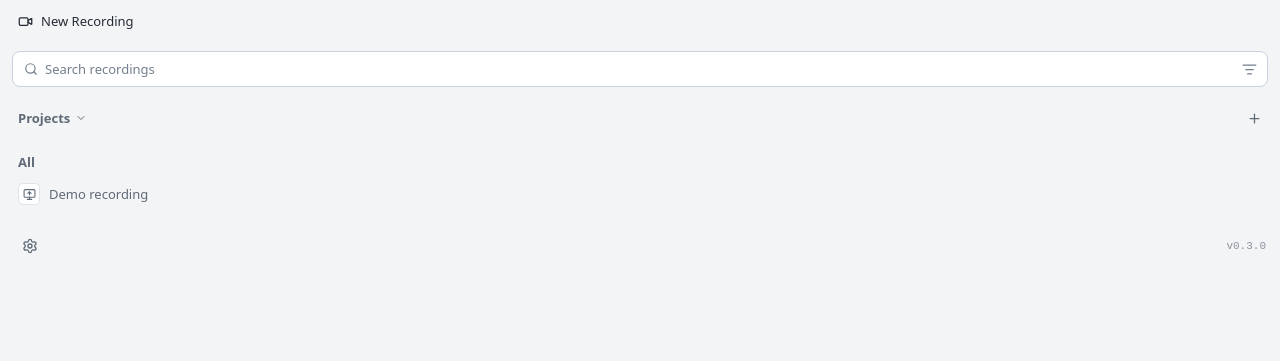
Test: HistorySidebar context menus › closes the menu on Escape and returns focus to the row
Right-click the element showing "Demo recording".
right_click(640, 194)  # box [8,176,1272,212]
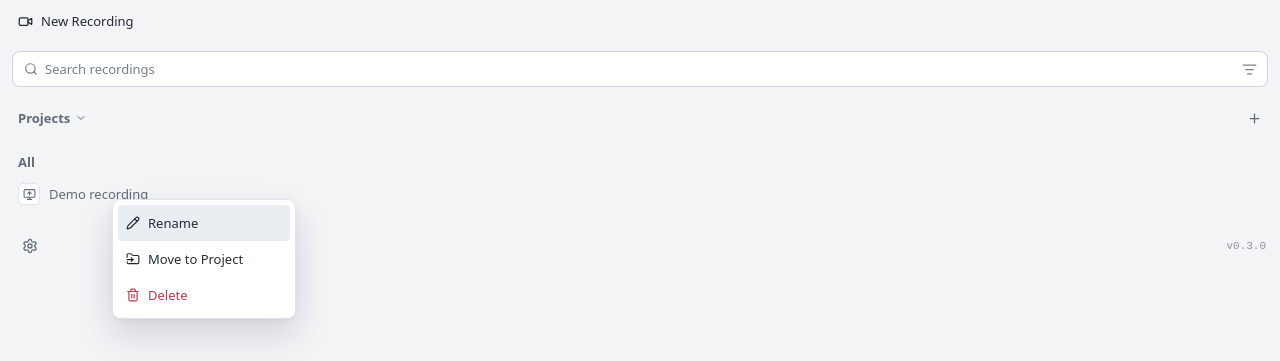
Press Escape in the menu named "More actions", box [112,199,296,319]
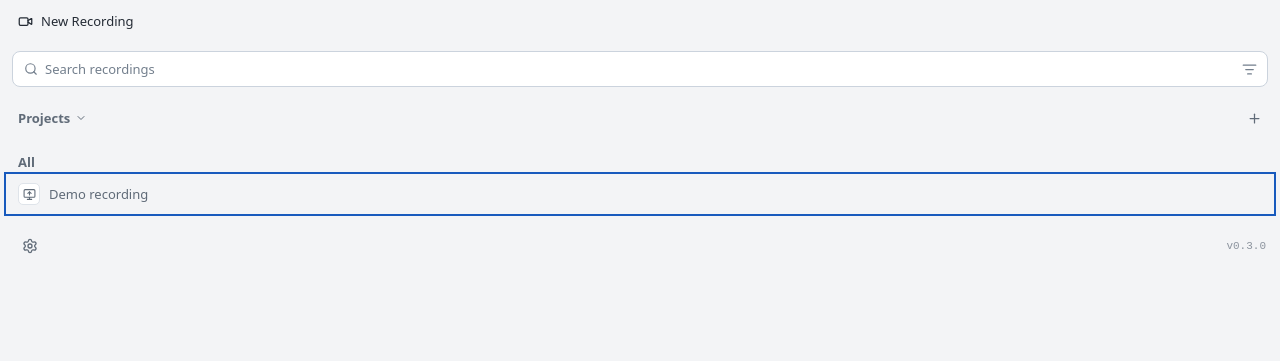
Now the menu is gone
